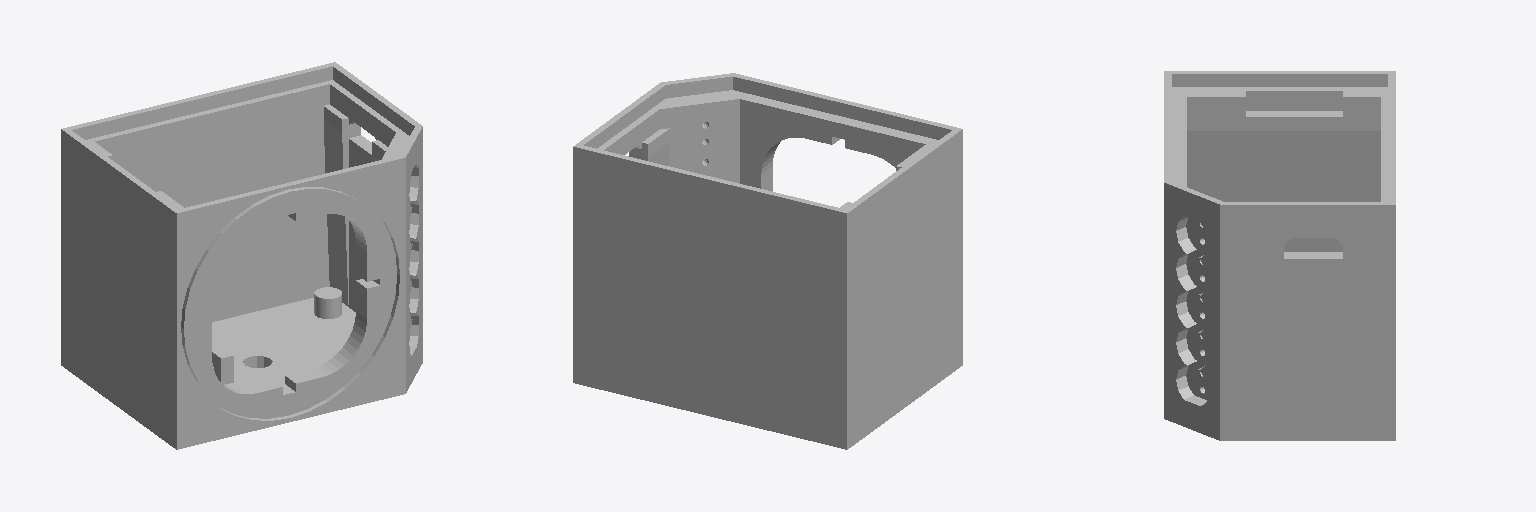
File: controller_mouting.obj
3 renders of one model, left to right at view 1: azimuth 30°, elevation 25°; view 2: azimuth 150°, elevation 25°; view 3: azimuth 270°, elevation 25°, orthographic.
Parts seen in each view (by area): view 1: controller_mouting; view 2: controller_mouting; view 3: controller_mouting.
Part boxes in pixels (x1,y1,x2,y2): controller_mouting: (61,62,422,449); controller_mouting: (573,73,962,449); controller_mouting: (1164,71,1395,440).
Bounding box in the file's own units: 42500 × 35000 × 31000.